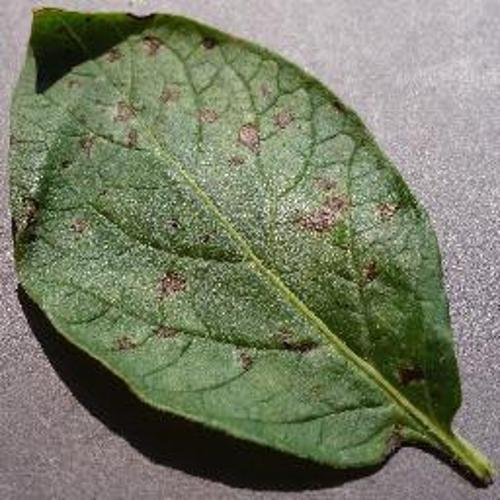Potato: (11, 8, 490, 483)
